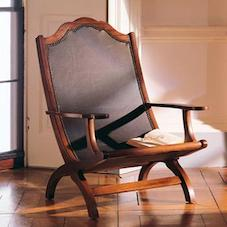chair: (22, 11, 209, 225)
